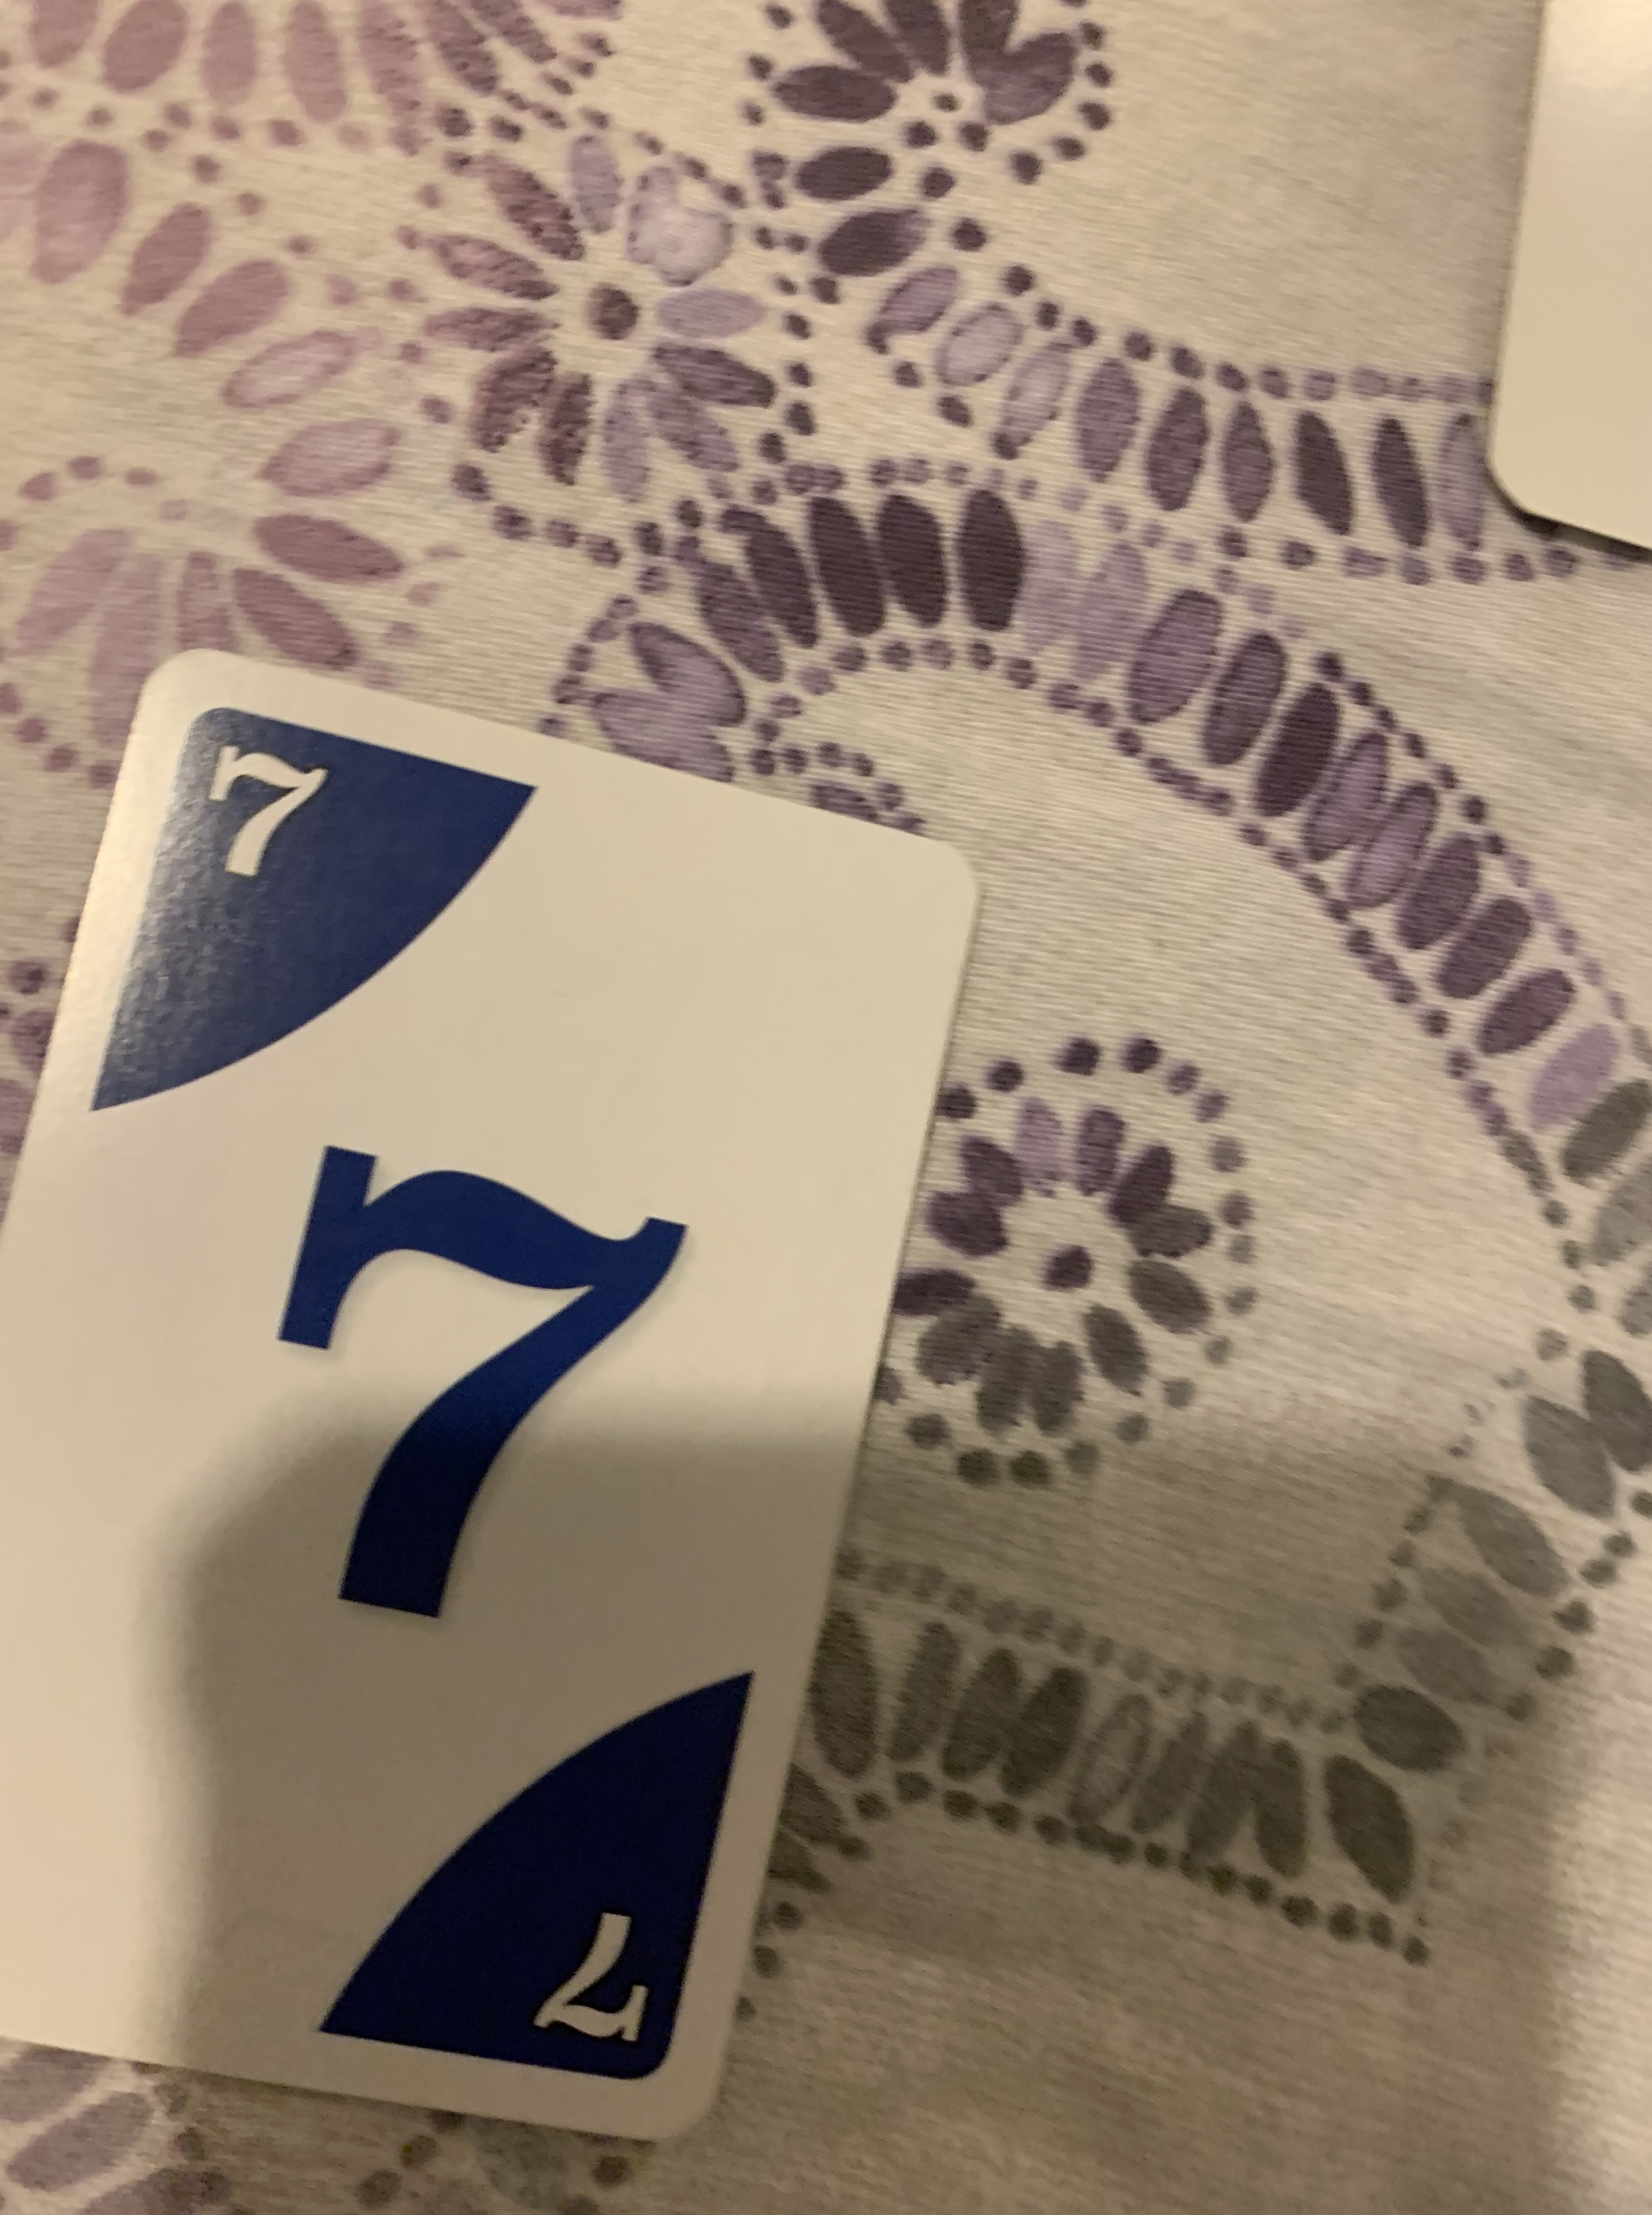seven: (0, 646, 982, 2146)
